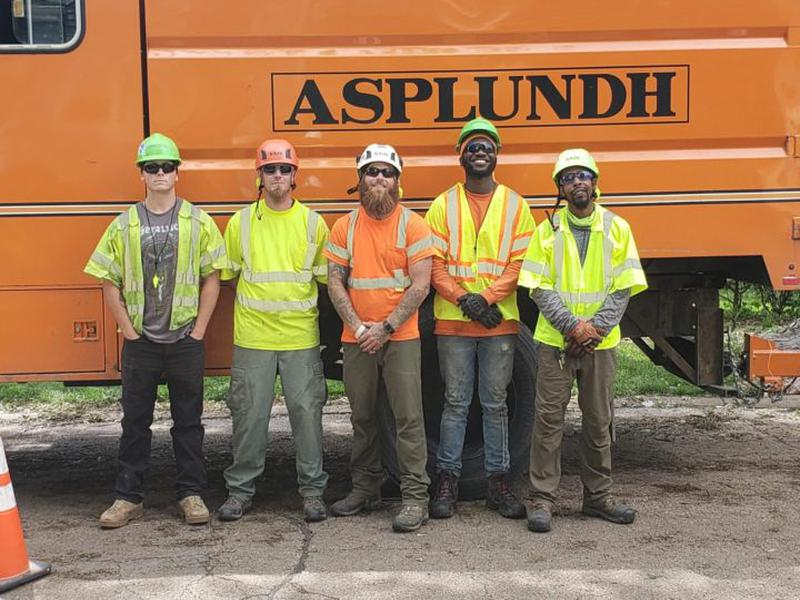hard-hat: (130, 132, 184, 171), (353, 141, 406, 178), (551, 147, 604, 184), (252, 137, 303, 175), (454, 116, 503, 149)
